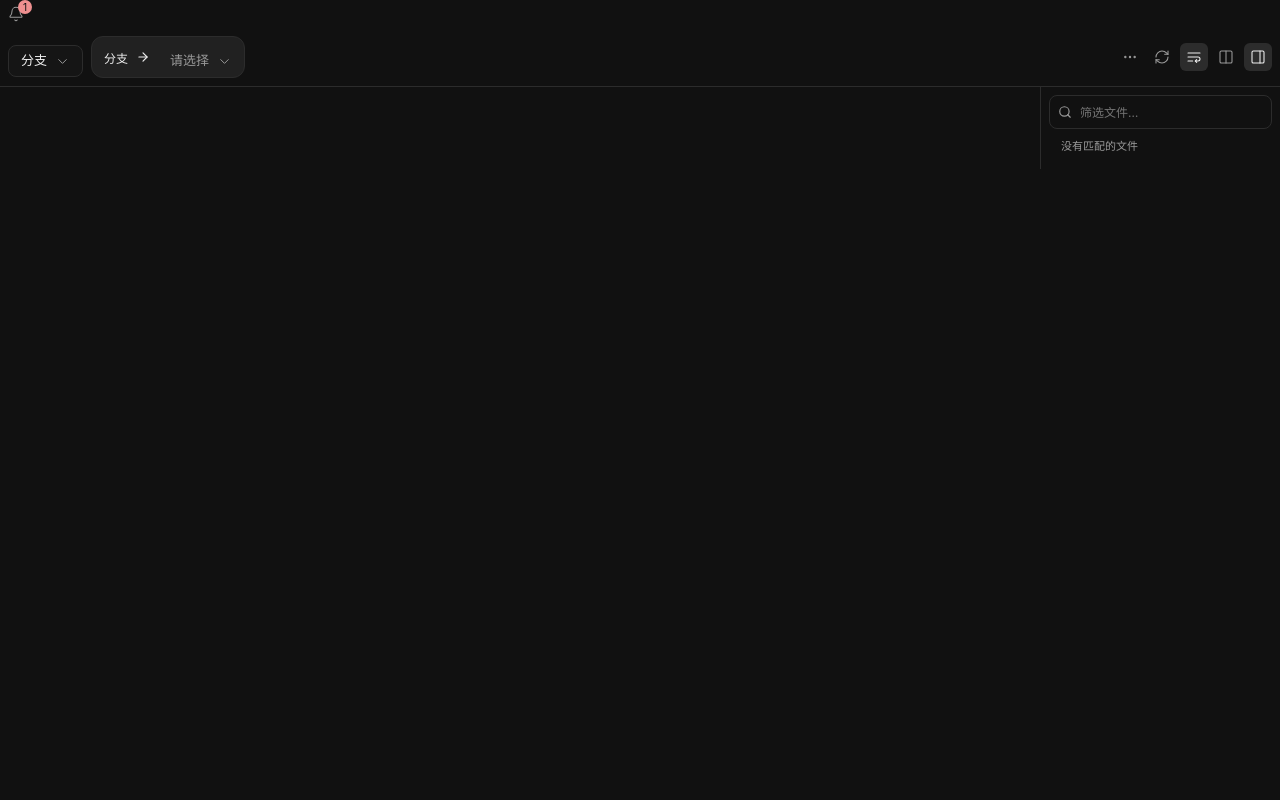
does not report a clean worktree when the server cannot enumerate changes
The image size is (1280, 800).
Click the button named "状态提示（".
click(16, 14)  # box [0,0,32,28]
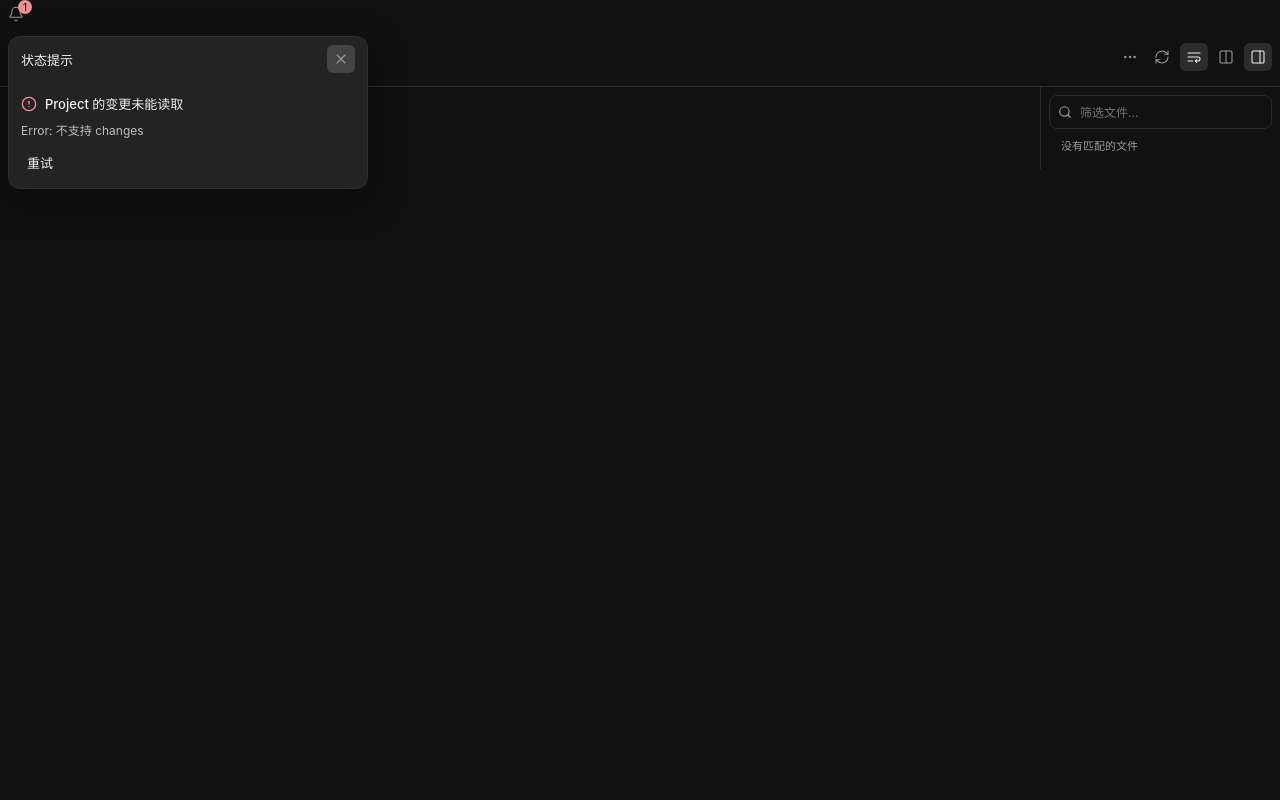
Expected: the dialog "状态提示" shows "不支持", [21,123,144,138]
